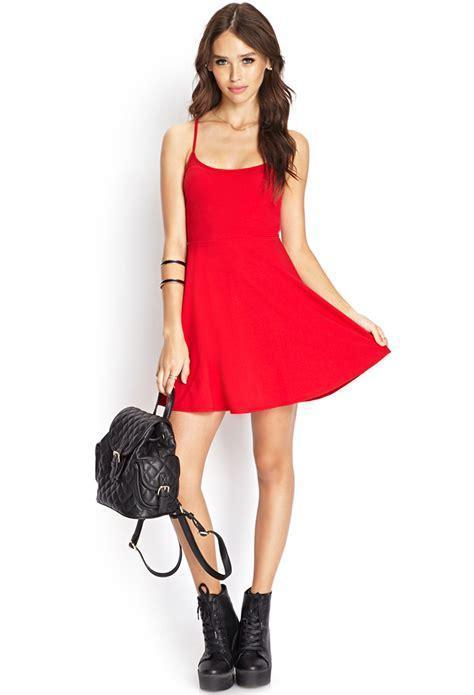dress: (157, 118, 392, 416)
